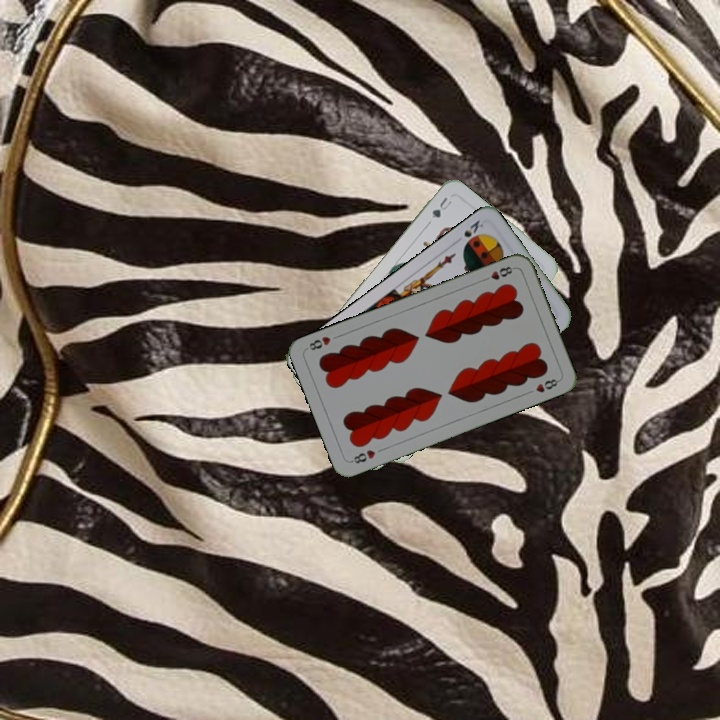GU: (424, 193, 454, 226)
H8: (478, 262, 517, 284), (347, 446, 378, 466)
SK: (460, 216, 486, 240)
